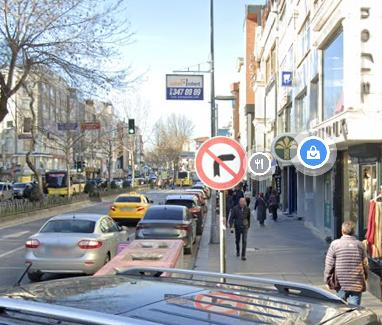greenlight: (129, 119, 135, 135)
rightturnsareforbidden: (200, 139, 245, 185)
